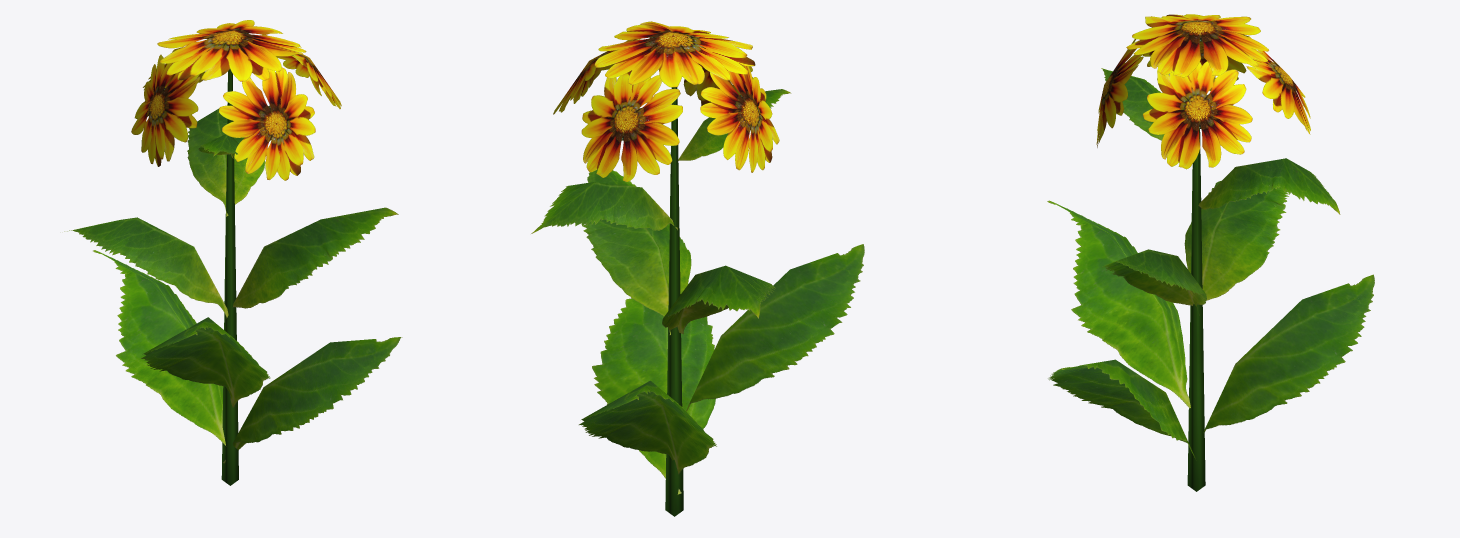
File: flower plant3.FBX
3 renders of one model, left to right at view 1: azimuth 30°, elevation 25°; view 2: azimuth 150°, elevation 25°; view 3: azimuth 270°, elevation 25°, orthographic. The views are drawn at different scales.
Visible parts, largest first — view 1: Cylinder001; view 2: Cylinder001; view 3: Cylinder001.
Boxes of the visible parts, x1,y1,x2,y2 form: Cylinder001: (64, 20, 402, 485); Cylinder001: (531, 21, 864, 516); Cylinder001: (1047, 14, 1374, 491).
Size of the model in its own units: 3.4 by 4.22 by 3.86.
